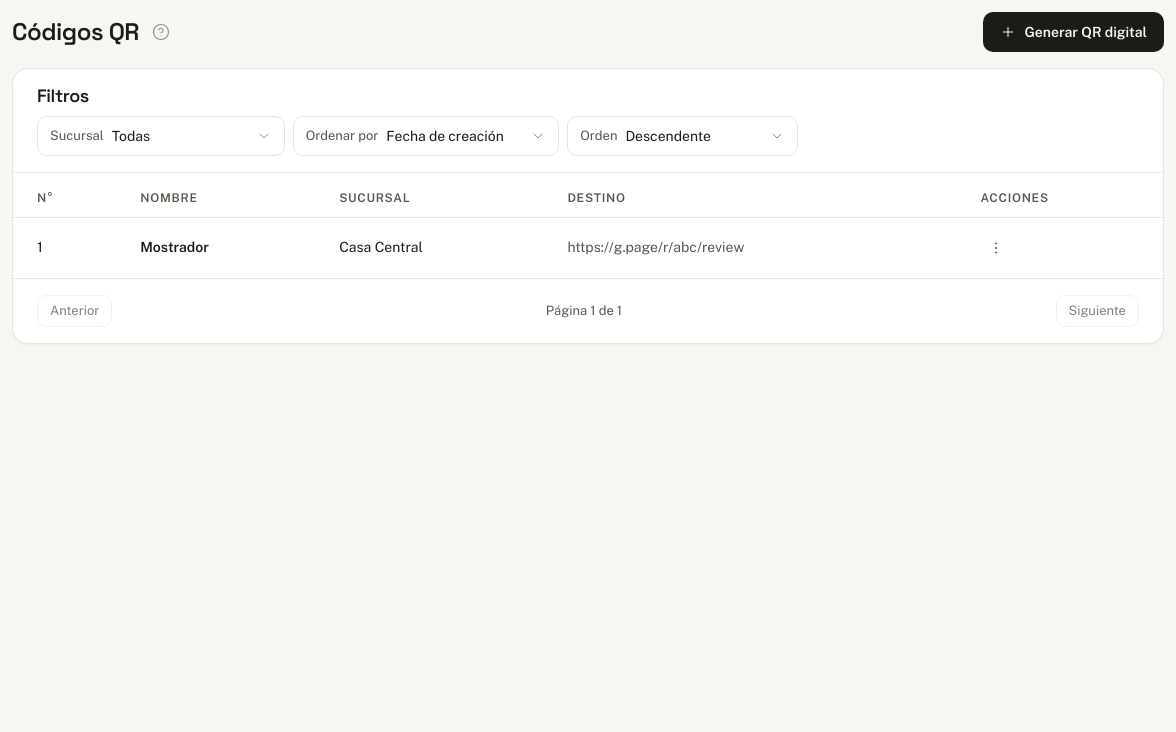
Scenario: QrListPage — acciones por rol › ADMIN ve Generar/Editar/Eliminar además de las de solo lectura
This screenshot has width=1176, height=732.
Check: the table is shown, box [13,172,1163,278]
Check: the button "Generar QR digital" is shown, box [983,12,1164,52]
Click the button named "Más acciones".
click(996, 248)  # box [980,232,1012,264]
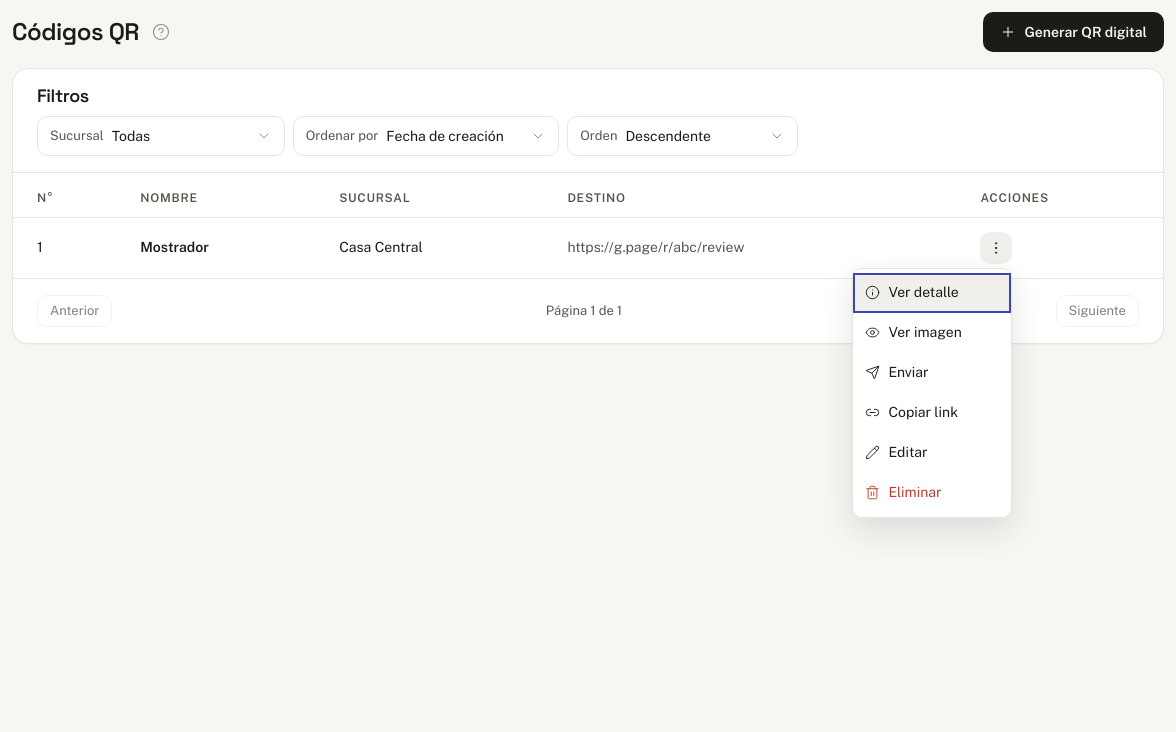
Check: the menu items read "Ver detalle", "Ver imagen", "Enviar", "Copiar link", "Editar", "Eliminar", in this order, box [853,272,1011,312]; [853,312,1011,352]; [853,352,1011,392]; [853,392,1011,432]; [853,432,1011,472]; [853,472,1011,512]
